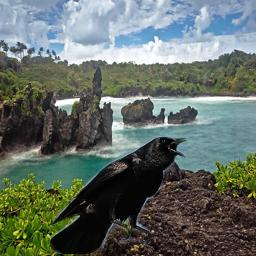Crow: (50, 135, 188, 254)
